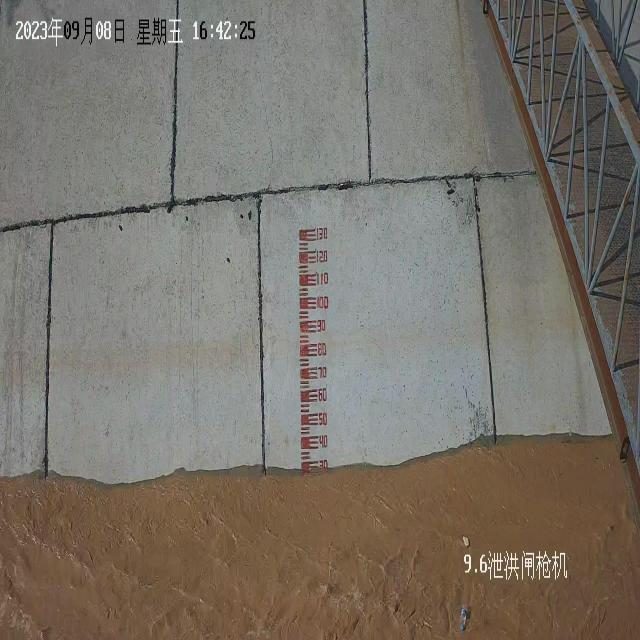ruler: (296, 220, 330, 482)
value: (316, 294, 330, 314), (316, 270, 330, 288), (315, 226, 329, 244), (316, 248, 329, 265), (316, 316, 328, 334), (316, 341, 328, 359), (318, 432, 329, 451), (318, 410, 329, 429), (317, 386, 328, 404), (318, 457, 329, 474), (318, 364, 328, 380)
